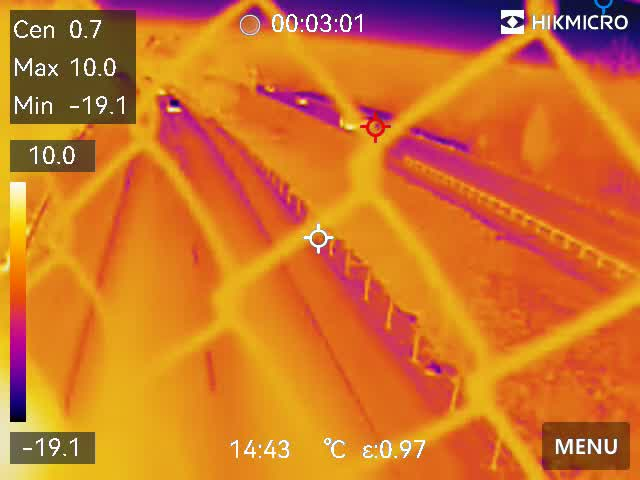vehicle: (335, 110, 361, 133), (163, 96, 185, 116), (261, 82, 281, 95), (294, 96, 307, 105)
